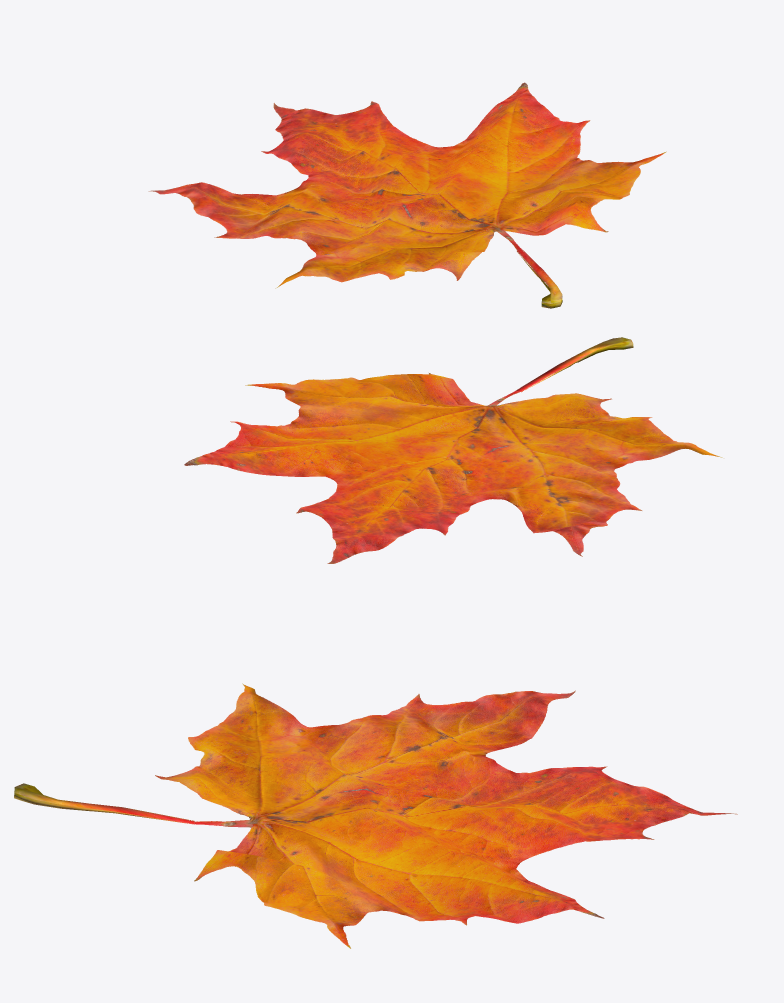
File: leaf.glb
3 renders of one model, top to bottom at view 1: azimuth 30°, elevation 25°; view 2: azimuth 150°, elevation 25°; view 3: azimuth 270°, elevation 25°, orthographic. The views are drawn at different scales.
Visible parts, largest first — view 1: Plane; view 2: Plane; view 3: Plane.
Part boxes in pixels (bbox=[...]): Plane: bbox=[148, 82, 666, 308]; Plane: bbox=[184, 337, 722, 563]; Plane: bbox=[14, 683, 737, 948].
Size of the model in its own units: 2 by 0.0963 by 1.92.
1 material, 1 textured.
